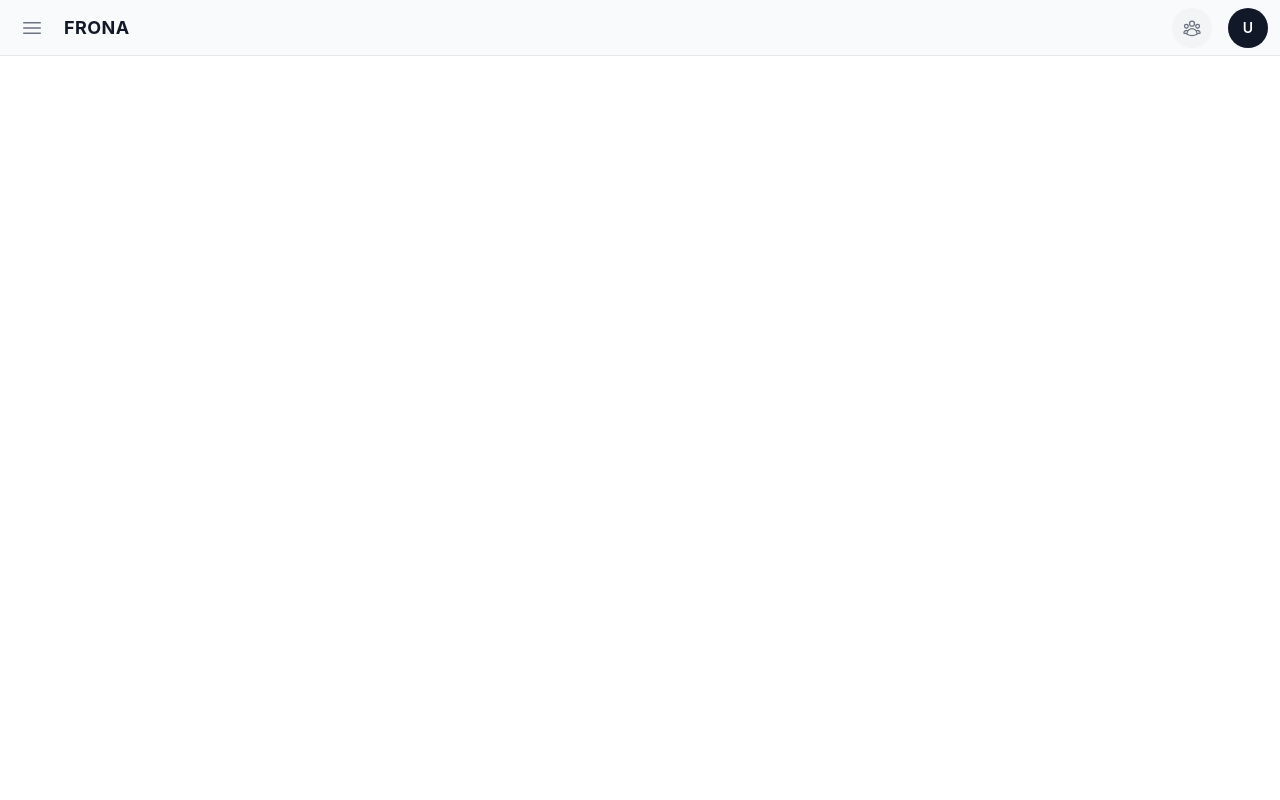
mobile header drawers › closes the account drawer on Memory selection, even on the same route
Step 1. Click the button titled "user@example.test" → [1248, 28], box top-left (1228, 8), bottom-right (1268, 48)
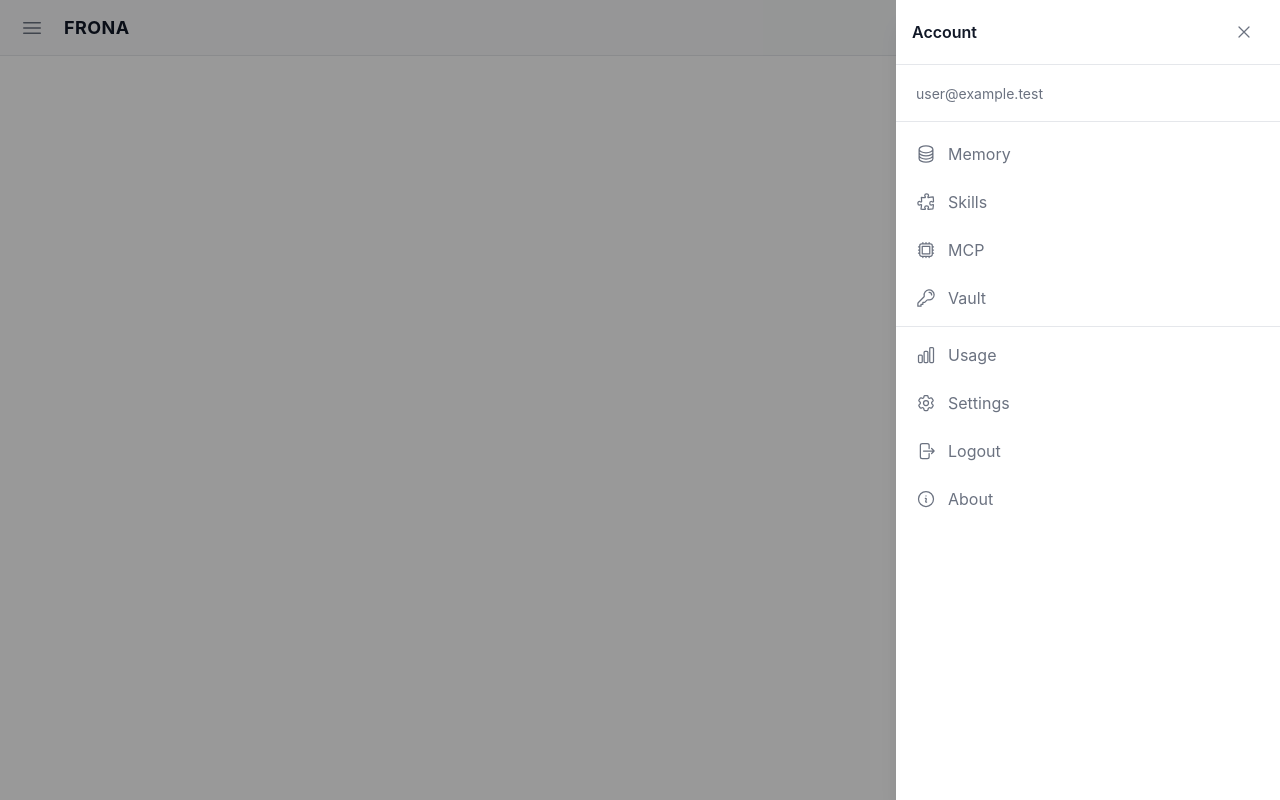
Step 2. Click the button "Memory" → [979, 154], box top-left (896, 130), bottom-right (1279, 178)
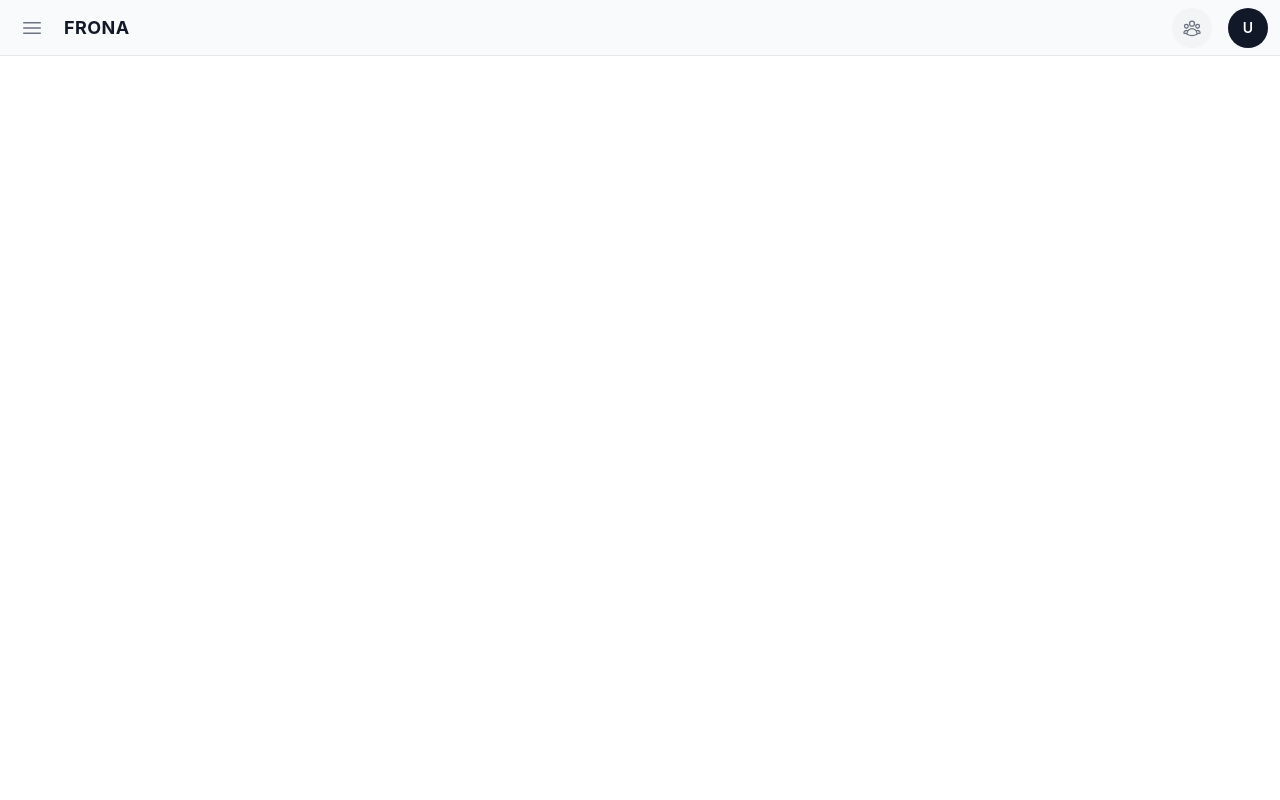
Result: the text "Account" is gone
